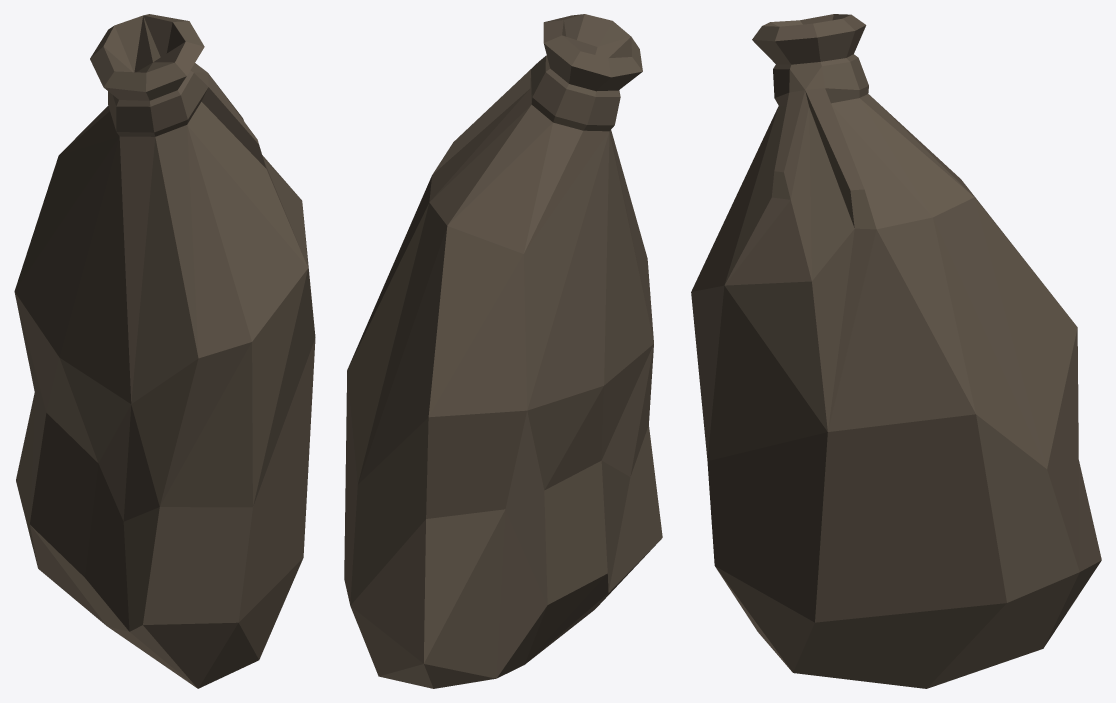
Rendered from Chr_HipsAttachment_07_Static.fbx.
The picture shows the model from 3 angles, left to right: view 1: azimuth 30°, elevation 25°; view 2: azimuth 150°, elevation 25°; view 3: azimuth 270°, elevation 25°; orthographic projection. The views are drawn at different scales.
Visible parts, largest first — view 1: Chr_HipsAttachment_07_Static; view 2: Chr_HipsAttachment_07_Static; view 3: Chr_HipsAttachment_07_Static.
Part boxes in pixels (<box>): Chr_HipsAttachment_07_Static: <box>14,14,315,688</box>; Chr_HipsAttachment_07_Static: <box>344,14,662,688</box>; Chr_HipsAttachment_07_Static: <box>691,14,1101,688</box>.
Bounding box in the file's own units: 0.1596 × 0.4459 × 0.2625.
